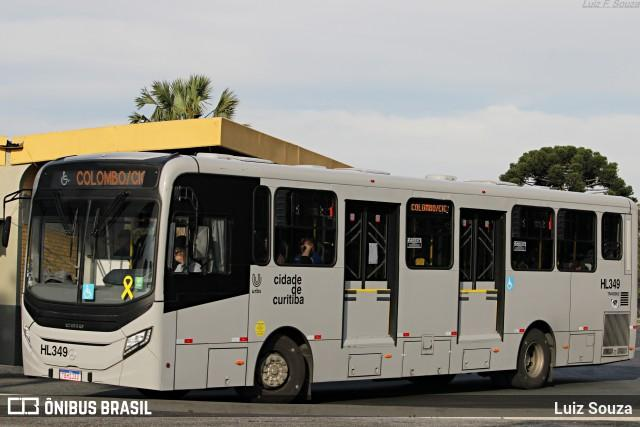COLOMBO CIC: (73, 166, 149, 187)
